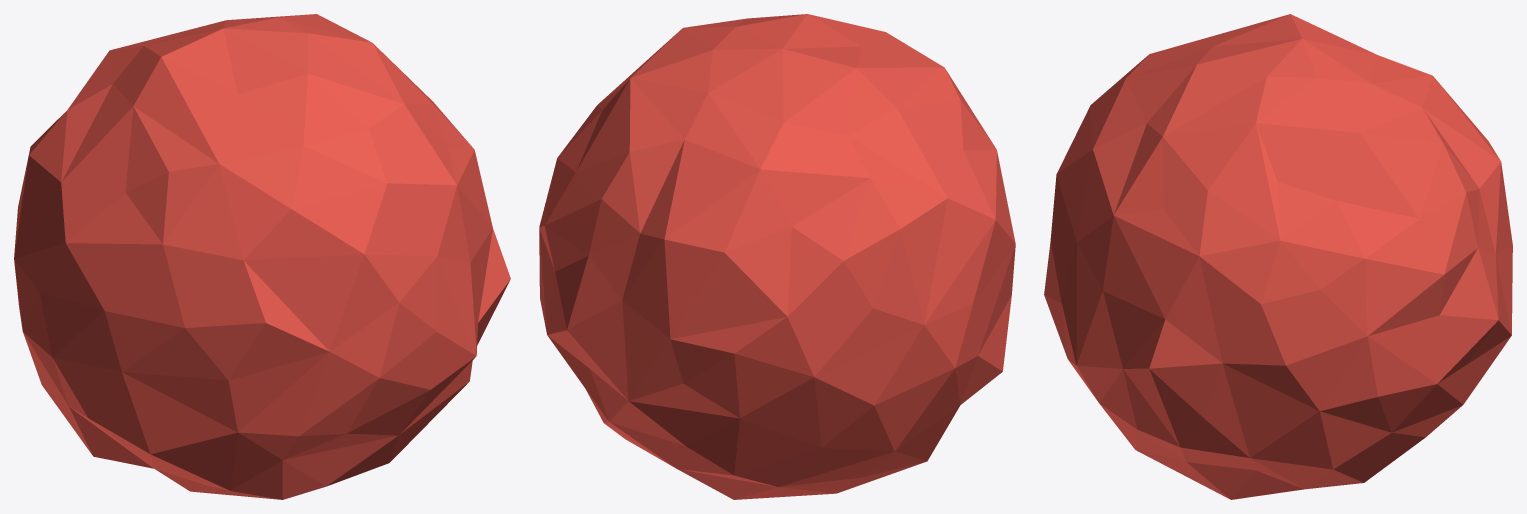
Rendered from dry_planet.fbx.
3 views of the same model, side by side, from view 1: azimuth 30°, elevation 25°; view 2: azimuth 150°, elevation 25°; view 3: azimuth 270°, elevation 25° (orthographic). The views are drawn at different scales.
Parts seen in each view (by area): view 1: dry_planet; view 2: dry_planet; view 3: dry_planet.
Part boxes in pixels (box(x1,y1,x2,y2)): dry_planet: box(14, 14, 510, 499); dry_planet: box(539, 14, 1015, 499); dry_planet: box(1044, 14, 1512, 499).
Size of the model in its own units: 197 by 202 by 200.
